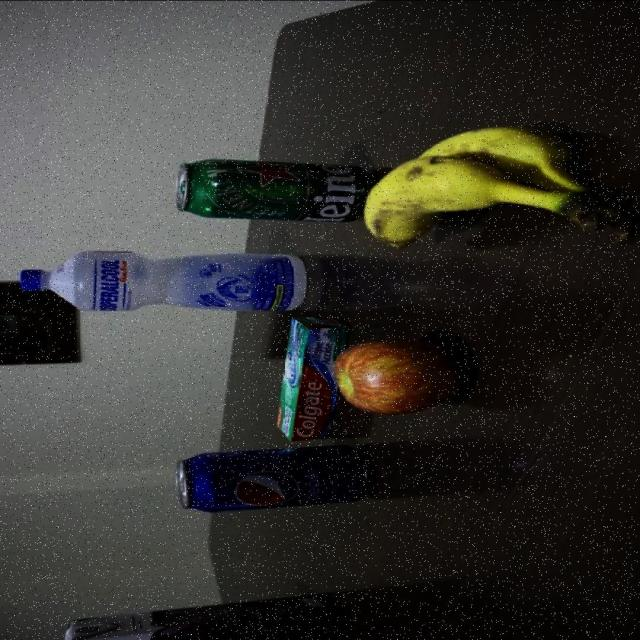AlcoholBottle: (20, 248, 311, 312)
Apple: (334, 340, 468, 414)
Banana: (362, 122, 636, 251)
BeerCan: (174, 157, 372, 225)
SodaCan: (175, 443, 377, 510)
Toothpaste: (276, 312, 350, 440)
